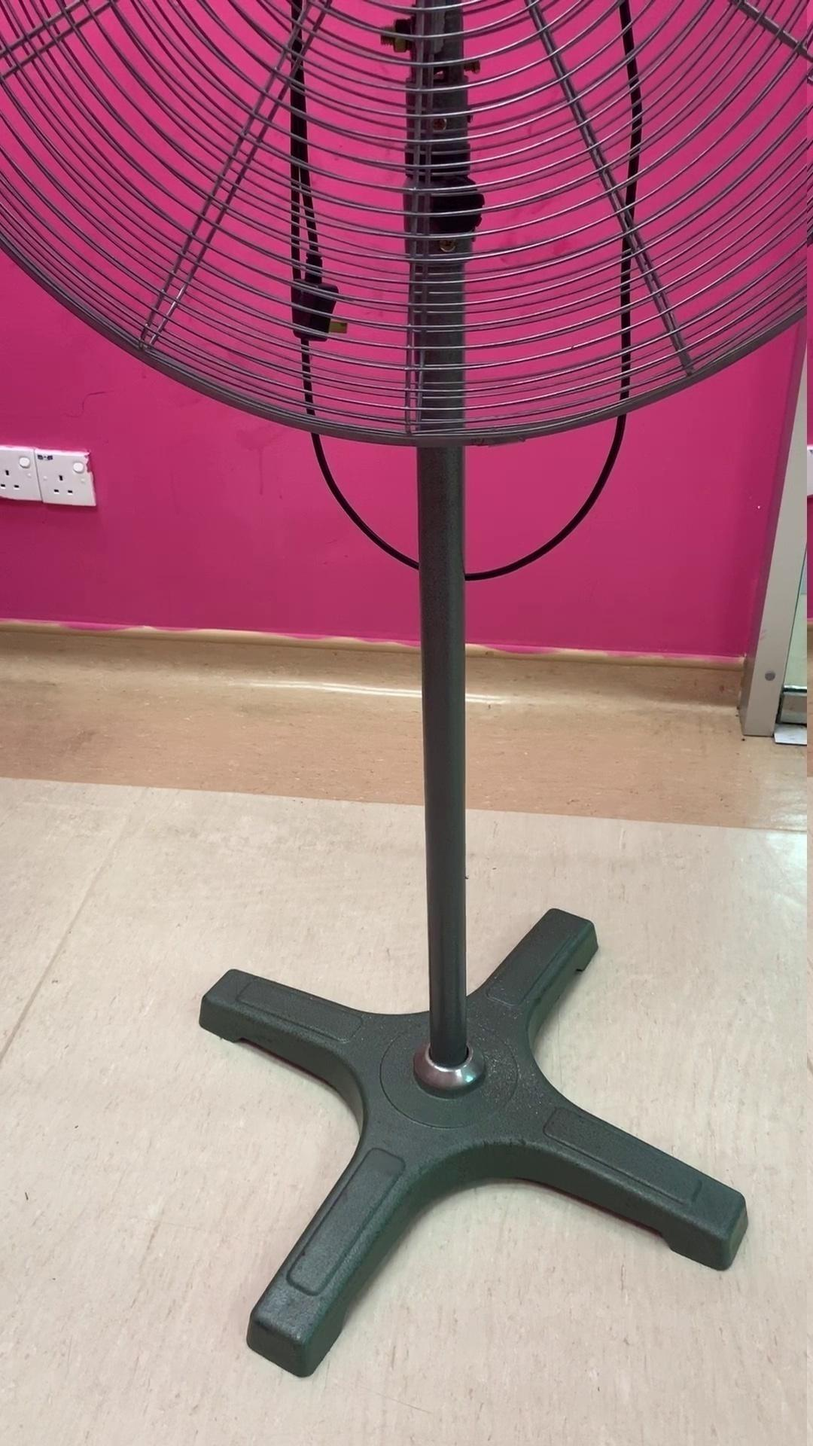fan: (0, 0, 802, 1419)
